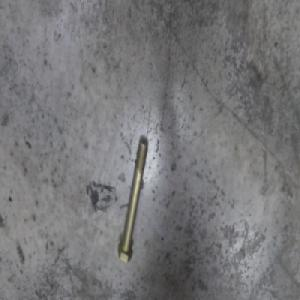Bolt: (118, 138, 152, 259)
